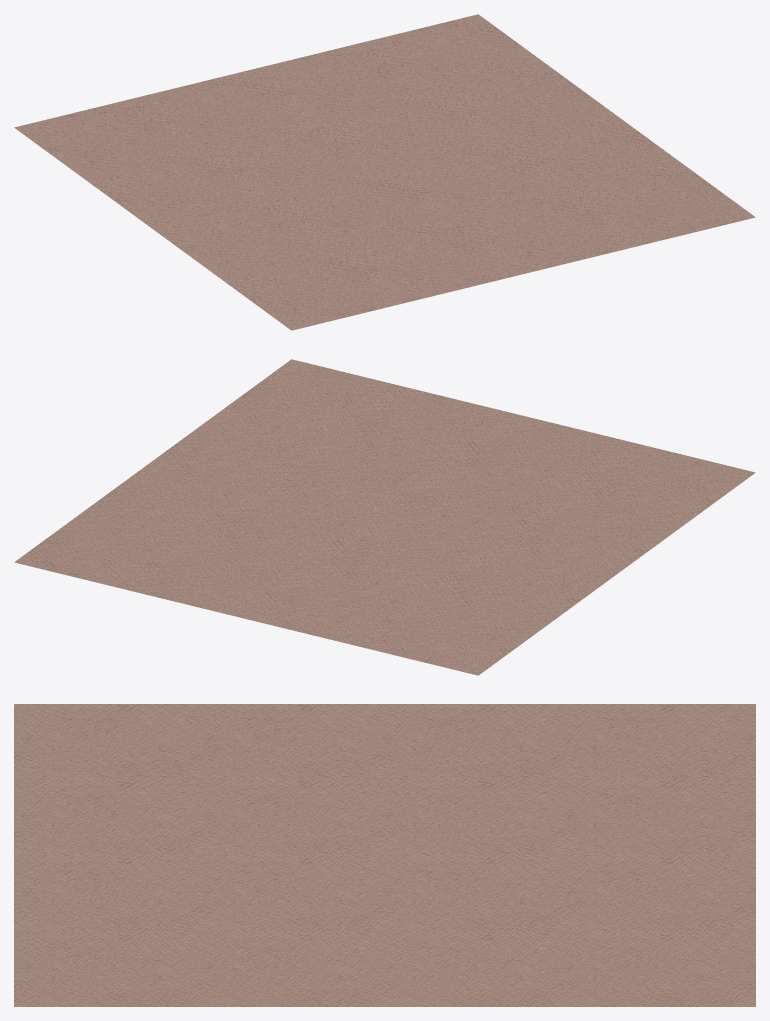
Rendered from floor.FBX.
The picture shows the model from 3 angles, top to bottom: view 1: azimuth 30°, elevation 25°; view 2: azimuth 150°, elevation 25°; view 3: azimuth 270°, elevation 25°; orthographic projection. The views are drawn at different scales.
Visible parts, largest first — view 1: floor; view 2: floor; view 3: floor.
Boxes of the visible parts, x1,y1,x2,y2 form: floor: (14,14,755,330); floor: (14,359,755,675); floor: (14,704,755,1006).
Bounding box in the file's own units: 840 × 5.33e-14 × 870.
Materials: 1 (1 with a texture image).
